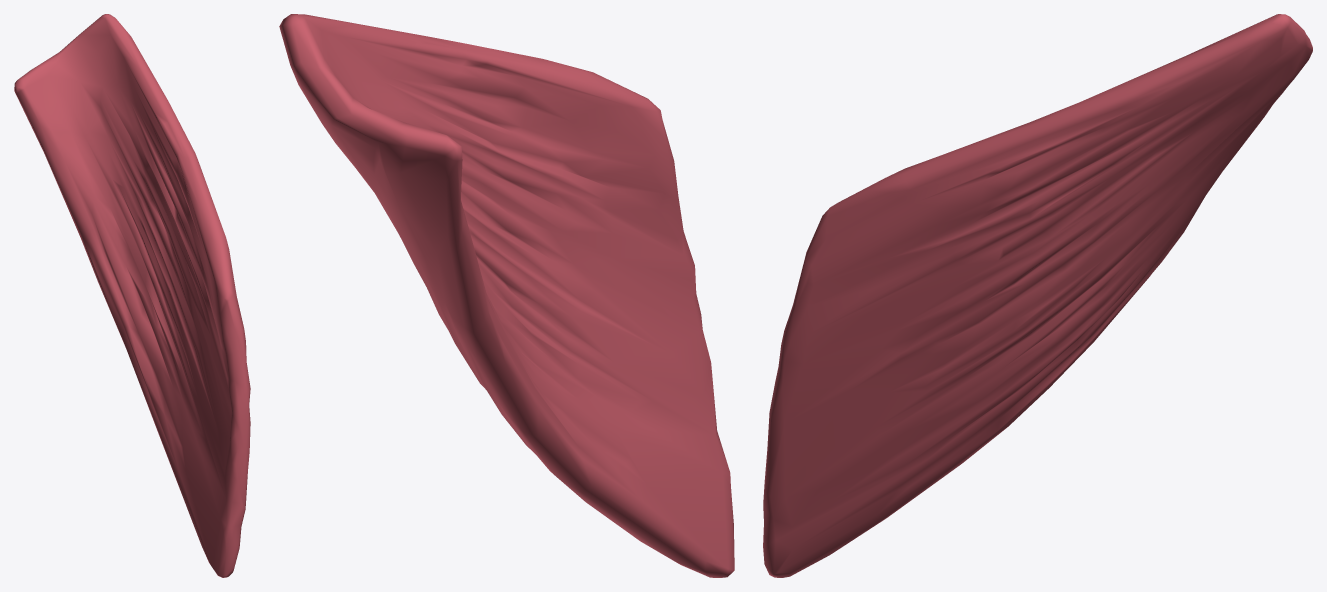
The picture shows the model from 3 angles, left to right: view 1: azimuth 30°, elevation 25°; view 2: azimuth 150°, elevation 25°; view 3: azimuth 270°, elevation 25°; orthographic projection. The views are drawn at different scales.
Parts seen in each view (by area): view 1: 左侧舌骨舌肌; view 2: 左侧舌骨舌肌; view 3: 左侧舌骨舌肌.
Part boxes in pixels (x1,y1,x2,y2): 左侧舌骨舌肌: (14, 14, 250, 577); 左侧舌骨舌肌: (279, 14, 734, 577); 左侧舌骨舌肌: (763, 14, 1312, 577).
Size of the model in its own units: 0.0116 by 0.0453 by 0.0373.
